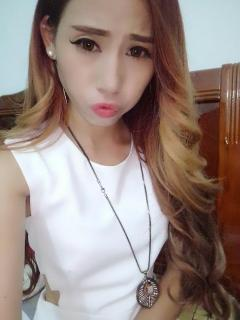vest: (3, 118, 172, 319)
